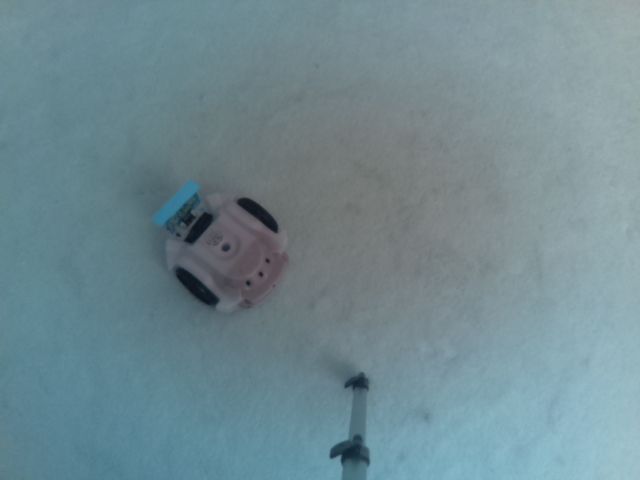board: (149, 177, 208, 232)
chassis: (148, 167, 294, 314)
